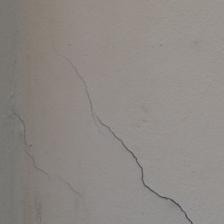Crack: (37, 25, 194, 114), (40, 0, 152, 91)
